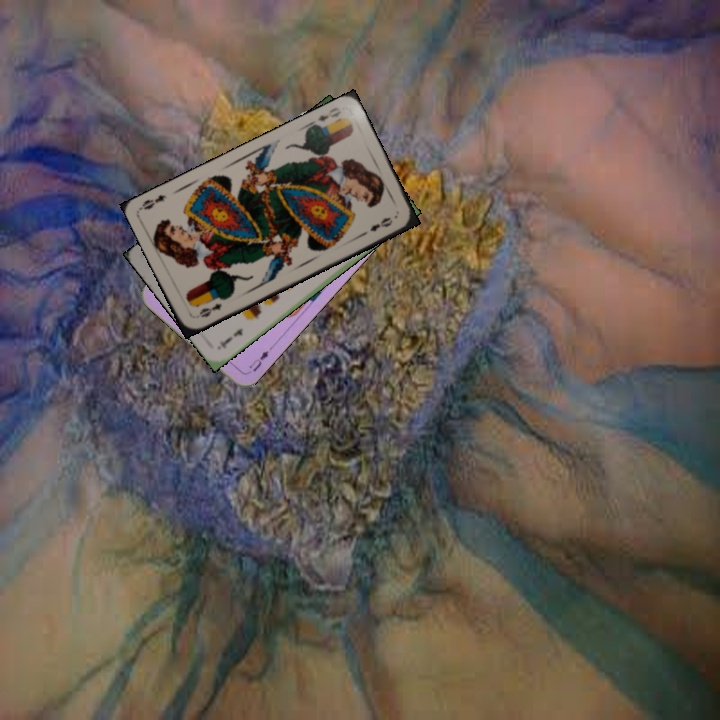E7: (215, 324, 246, 351)
EO: (307, 103, 344, 131), (195, 299, 225, 320)
EU: (244, 343, 275, 376)
